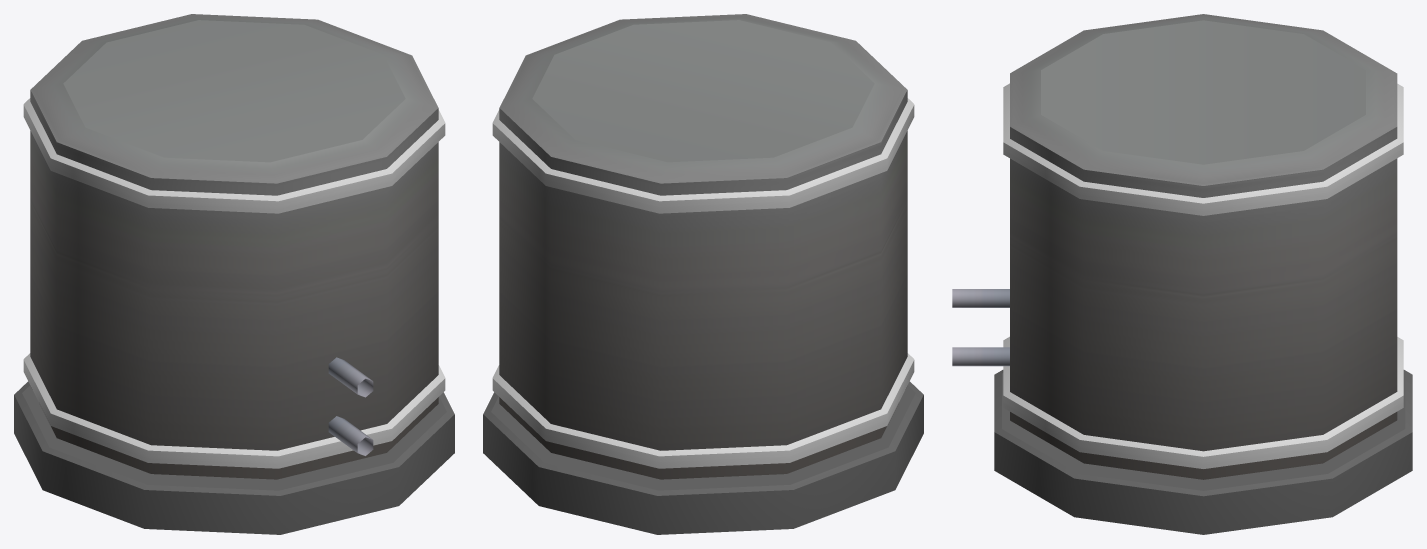
File: GasTank_2_A.fbx
The picture shows the model from 3 angles, left to right: view 1: azimuth 30°, elevation 25°; view 2: azimuth 150°, elevation 25°; view 3: azimuth 270°, elevation 25°; orthographic projection.
Parts seen in each view (by area): view 1: GasTank_2_A; view 2: GasTank_2_A; view 3: GasTank_2_A.
Part boxes in pixels (x1,y1,x2,y2): GasTank_2_A: (14, 14, 454, 534); GasTank_2_A: (483, 14, 923, 534); GasTank_2_A: (952, 14, 1412, 534).
Size of the model in its own units: 900 by 790 by 942.
